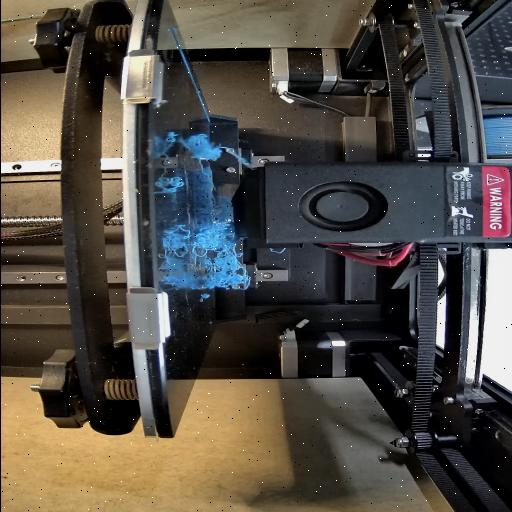spaghetti: (194, 208, 235, 292), (162, 130, 230, 164), (161, 176, 185, 194)
